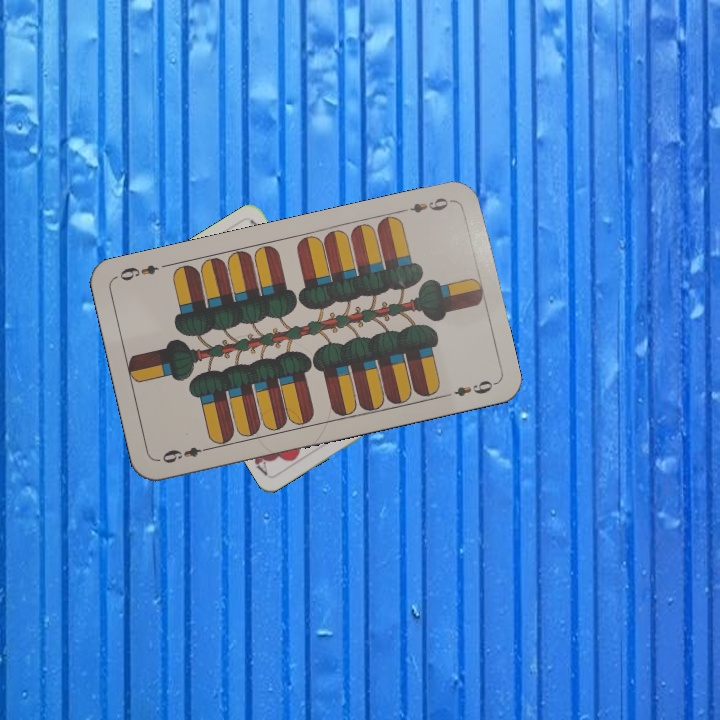E9: (155, 443, 214, 466), (396, 193, 455, 216)
